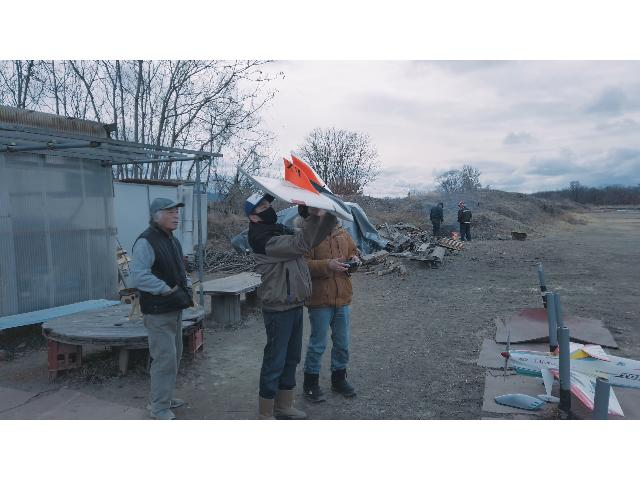Anti-Drone: (232, 148, 354, 224)
